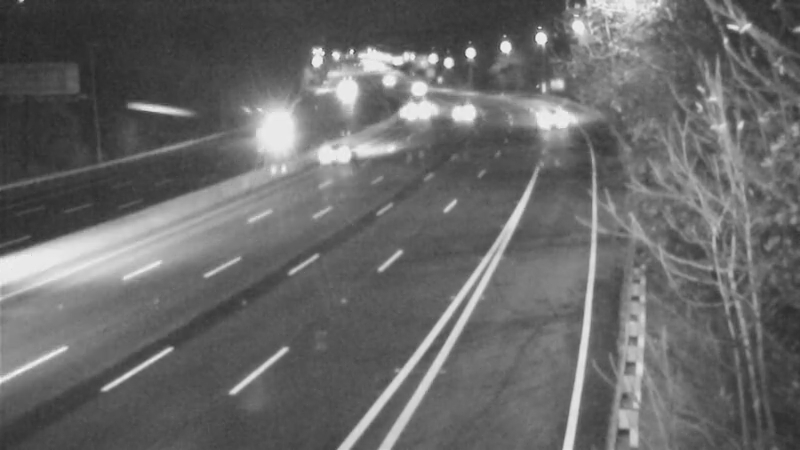vehicle: (296, 122, 376, 202), (360, 56, 410, 106), (393, 64, 443, 114), (529, 89, 579, 139), (438, 83, 488, 133), (393, 83, 443, 133), (249, 107, 299, 157), (321, 64, 371, 114)
